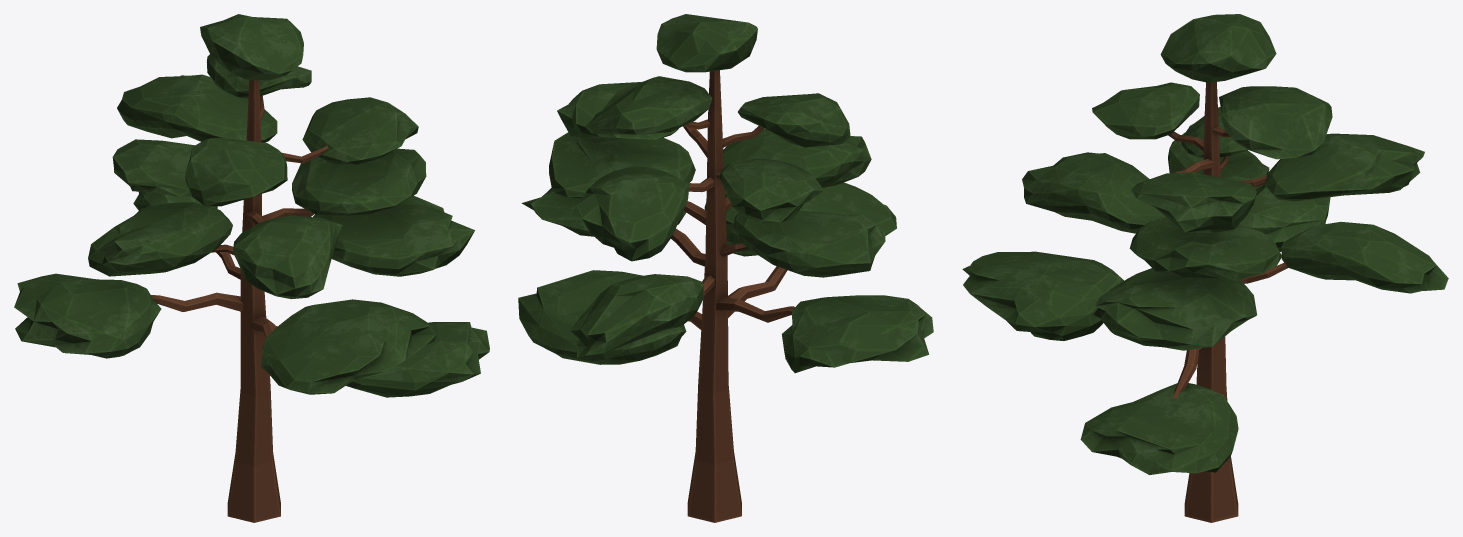
File: BubingaTree.gltf
3 views of the same model, side by side, from view 1: azimuth 30°, elevation 25°; view 2: azimuth 150°, elevation 25°; view 3: azimuth 270°, elevation 25° (orthographic).
Visible parts, largest first — view 1: node-0; view 2: node-0; view 3: node-0.
Part boxes in pixels (bbox=[...]): node-0: bbox=[14, 14, 489, 522]; node-0: bbox=[518, 14, 933, 522]; node-0: bbox=[962, 14, 1448, 522].
Bounding box in the file's own units: 21.03 × 22.43 × 20.35.
Materials: 1 (1 with a texture image).
